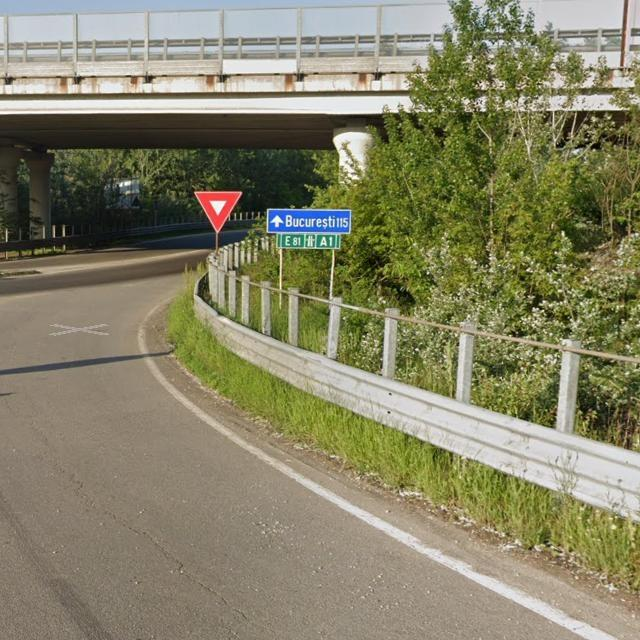prio_give_way: (194, 192, 242, 232)
